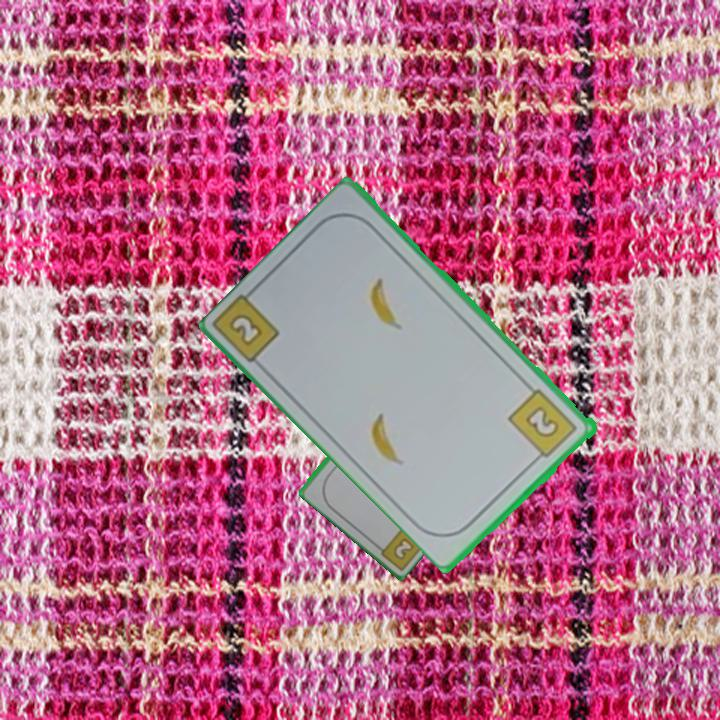2b: (505, 385, 581, 465), (226, 309, 266, 349), (390, 534, 417, 563)
